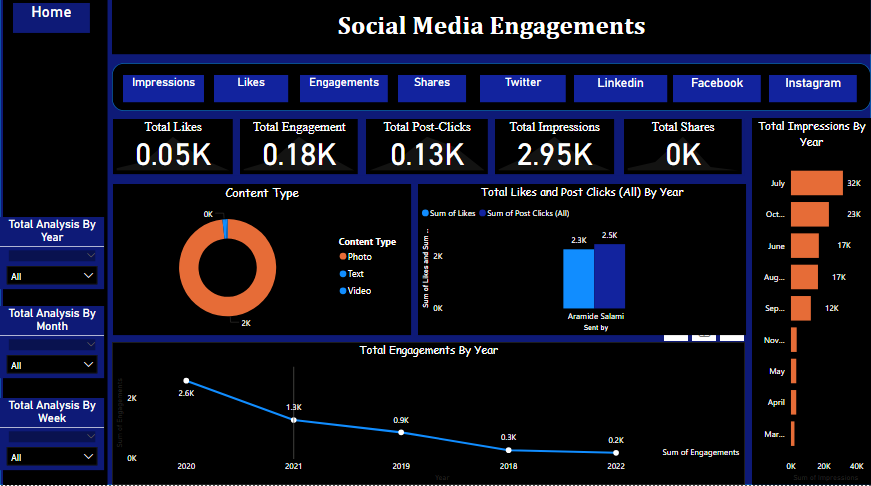

What the dashboard file says about the page in this screenshot:
{"tool":"powerbi","page":{"name":"LINKDIN ","canvas":[1280,720],"ordinal":1},"visuals":[{"type":"shape","box":[0,0,1279.8,720],"z":0},{"type":"textbox","box":[164.6,0,1115.3,86.7],"z":1000},{"type":"clusteredBarChart","title":"Total Impressions By Year","fields":{"Category":["Post Performance (LinkedIn).Month"],"Y":["Post Performance (LinkedIn).Impressions"]},"box":[1105,180.7,174.9,539.3],"z":2000},{"type":"lineChart","title":"Total Engagements By Year","fields":{"Category":["Post Performance (LinkedIn).Year"],"Y":["Post Performance (LinkedIn).Engagements"]},"box":[164.6,509.9,930.1,210.1],"z":3000},{"type":"donutChart","title":" Content Type","fields":{"Category":["Post Performance (LinkedIn).Content Type"],"Y":["Post Performance (LinkedIn).Likes"]},"box":[166,277.7,437.9,221.9],"z":4000},{"type":"clusteredColumnChart","title":"Total Likes and Post Clicks (All) By Year","fields":{"Category":["Post Performance (LinkedIn).Sent by"],"Y":["Post Performance (LinkedIn).Likes","Post Performance (LinkedIn).Post Clicks (All)"]},"box":[614.2,277.7,482,221.9],"z":5000},{"type":"shape","box":[164.6,180.7,930.1,85.2],"z":6000},{"type":"kpi","title":"Total Likes ","fields":{"Indicator":["Post Performance (LinkedIn).Likes"],"TrendLine":["Post Performance (LinkedIn).Year"]},"box":[166,182.2,176.3,80.8],"z":7000},{"type":"kpi","title":"Total Engagement","fields":{"TrendLine":["Post Performance (LinkedIn).Year"],"Indicator":["Post Performance (LinkedIn).Engagements"]},"box":[352.7,182.2,173.4,80.8],"z":8000},{"type":"kpi","title":"Total Impressions","fields":{"TrendLine":["Post Performance (LinkedIn).Year"],"Indicator":["Post Performance (LinkedIn).Impressions"]},"box":[727.3,182.2,174.9,80.8],"z":9000},{"type":"kpi","title":"Total  Shares","fields":{"TrendLine":["Post Performance (LinkedIn).Year"],"Indicator":["Post Performance (LinkedIn).Shares"]},"box":[916.9,182.2,173.4,80.8],"z":10000},{"type":"kpi","title":"Total Post-Clicks","fields":{"TrendLine":["Post Performance (LinkedIn).Year"],"Indicator":["Post Performance (LinkedIn).Post Clicks (All)"]},"box":[537.8,182.2,179.3,80.8],"z":11000},{"type":"shape","box":[164.6,99.9,1115.3,70.5],"z":12000},{"type":"actionButton","title":"Instagram","box":[1130,117.6,129.3,39.7],"z":13000},{"type":"actionButton","title":"Facebook","box":[988.9,117.6,129.3,39.7],"z":14000},{"type":"actionButton","title":"Linkedin","box":[843.4,117.6,136.7,39.7],"z":15000},{"type":"actionButton","title":"Twitter","box":[705.3,117.6,126.4,39.7],"z":16000},{"type":"actionButton","title":"Shares","box":[584.8,117.6,99.9,39.7],"z":17000},{"type":"actionButton","title":"Engagements","box":[440.8,117.6,129.3,39.7],"z":18000},{"type":"actionButton","title":"Likes","box":[314.4,117.6,108.7,39.7],"z":19000},{"type":"actionButton","title":"Impressions","box":[180.7,117.6,119,39.7],"z":20000},{"type":"shape","box":[4.1,0,154.3,720],"z":21000},{"type":"slicer","title":"Total Analysis By Month","fields":{"Values":["Post Performance (LinkedIn).Month"]},"box":[0,457,152.8,105.8],"z":22000},{"type":"slicer","title":"Total Analysis By Year","fields":{"Values":["Post Performance (LinkedIn).Year"]},"box":[0,326.2,152.8,105.8],"z":23000},{"type":"slicer","title":"Total Analysis By Week","fields":{"Values":["Post Performance (LinkedIn).Week"]},"box":[0,592.2,152.8,105.8],"z":24000},{"type":"actionButton","title":"Home","box":[19.1,11.8,113.1,44.1],"z":25000}]}

Visuals, with their boxes in screenshot pixels (x1, y1, x2, y2), scaled from the page's 1280x720 canvas onto the 871x486 screenshot:
shape: bbox=[0, 0, 870, 485]
textbox: bbox=[112, 0, 870, 59]
"Total Impressions By Year" clusteredBarChart: bbox=[752, 122, 870, 485]
"Total Engagements By Year" lineChart: bbox=[112, 344, 745, 485]
" Content Type" donutChart: bbox=[113, 187, 411, 337]
"Total Likes and Post Clicks (All) By Year" clusteredColumnChart: bbox=[418, 187, 746, 337]
shape: bbox=[112, 122, 745, 179]
"Total Likes " kpi: bbox=[113, 123, 233, 178]
"Total Engagement" kpi: bbox=[240, 123, 358, 178]
"Total Impressions" kpi: bbox=[495, 123, 614, 178]
"Total  Shares" kpi: bbox=[624, 123, 742, 178]
"Total Post-Clicks" kpi: bbox=[366, 123, 488, 178]
shape: bbox=[112, 67, 870, 115]
"Instagram" actionButton: bbox=[769, 79, 857, 106]
"Facebook" actionButton: bbox=[673, 79, 761, 106]
"Linkedin" actionButton: bbox=[574, 79, 667, 106]
"Twitter" actionButton: bbox=[480, 79, 566, 106]
"Shares" actionButton: bbox=[398, 79, 466, 106]
"Engagements" actionButton: bbox=[300, 79, 388, 106]
"Likes" actionButton: bbox=[214, 79, 288, 106]
"Impressions" actionButton: bbox=[123, 79, 204, 106]
shape: bbox=[3, 0, 108, 485]
"Total Analysis By Month" slicer: bbox=[0, 308, 104, 380]
"Total Analysis By Year" slicer: bbox=[0, 220, 104, 292]
"Total Analysis By Week" slicer: bbox=[0, 400, 104, 471]
"Home" actionButton: bbox=[13, 8, 90, 38]
